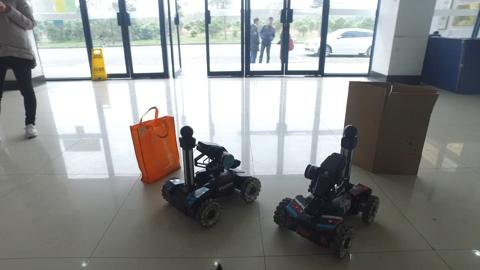bag: (126, 104, 177, 177)
box: (349, 77, 423, 174)
chariot: (272, 122, 382, 258), (167, 122, 259, 224)
